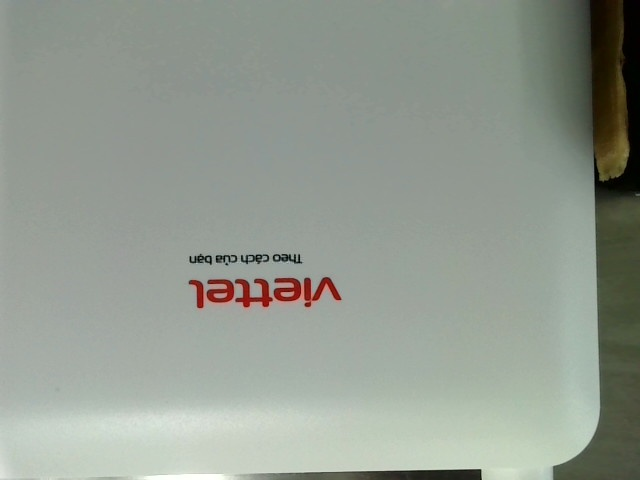AY_Viettel: (182, 245, 346, 309)
